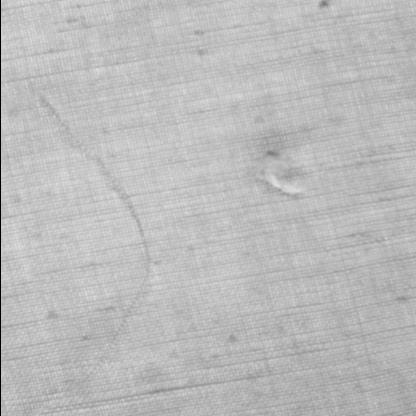objects: (29, 96, 152, 416), (250, 148, 308, 200)
